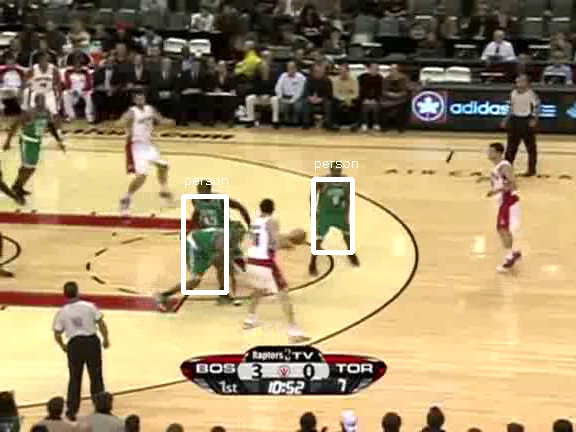person: (319, 166, 353, 247), (318, 166, 352, 247), (320, 166, 354, 247), (319, 165, 353, 246), (319, 167, 353, 248)
target_negative: (129, 44, 520, 160), (224, 212, 414, 276), (220, 226, 266, 271), (14, 22, 35, 112), (365, 379, 471, 396)
